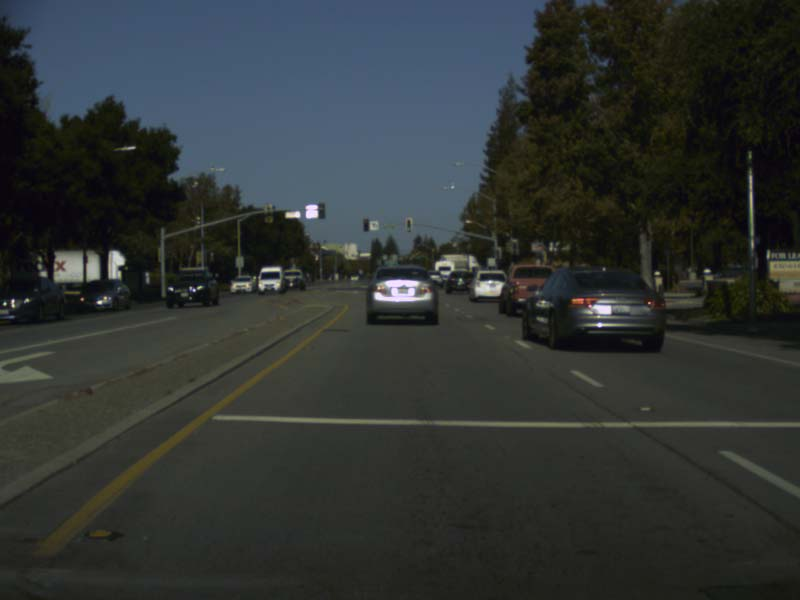Green: (407, 220, 410, 232)
Red: (363, 218, 368, 231)
